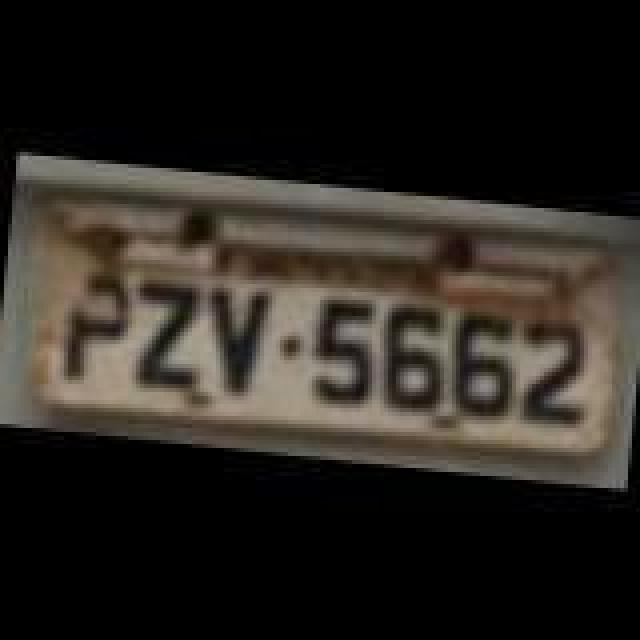2: (514, 312, 598, 432)
5: (304, 292, 384, 412)
6: (442, 306, 526, 422), (376, 300, 456, 420)
P: (58, 268, 134, 388)
V: (196, 280, 276, 400)
Z: (122, 276, 214, 396)
